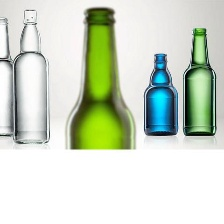bottle: (61, 5, 138, 149), (12, 6, 52, 146), (179, 21, 217, 138), (141, 46, 179, 139), (0, 14, 16, 138)
